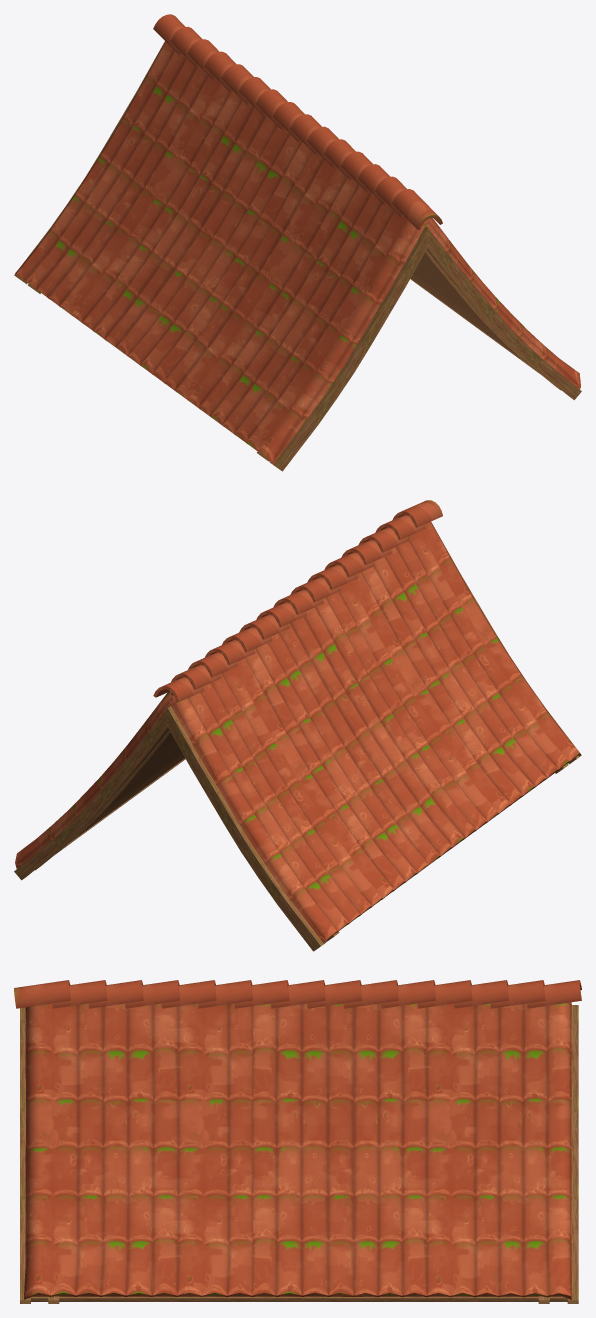
Rendered from Roof_RoundTiles_6x10.glb.
3 renders of one model, top to bottom at view 1: azimuth 30°, elevation 25°; view 2: azimuth 150°, elevation 25°; view 3: azimuth 270°, elevation 25°, orthographic. The views are drawn at different scales.
Visible parts, largest first — view 1: Roof_RoundTiles_6x10; view 2: Roof_RoundTiles_6x10; view 3: Roof_RoundTiles_6x10.
Boxes of the visible parts, x1,y1,x2,y2 form: Roof_RoundTiles_6x10: (14,14,581,471); Roof_RoundTiles_6x10: (14,500,581,951); Roof_RoundTiles_6x10: (14,980,581,1303).
Size of the model in its own units: 8.25 by 5.67 by 11.85.
2 materials, 2 textured.
